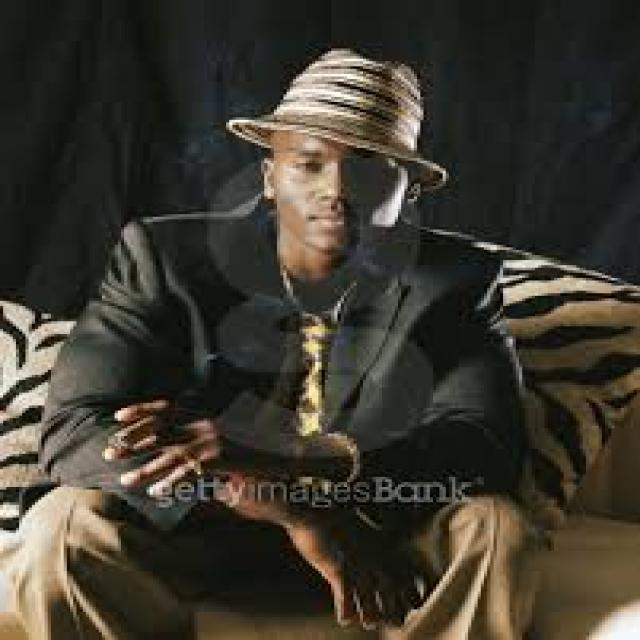hat: (232, 44, 449, 252)
